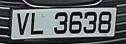3: (52, 10, 69, 36), (83, 11, 97, 35)
6: (67, 11, 83, 35)
8: (97, 11, 112, 35)
L: (30, 12, 46, 37)
V: (15, 12, 30, 37)
